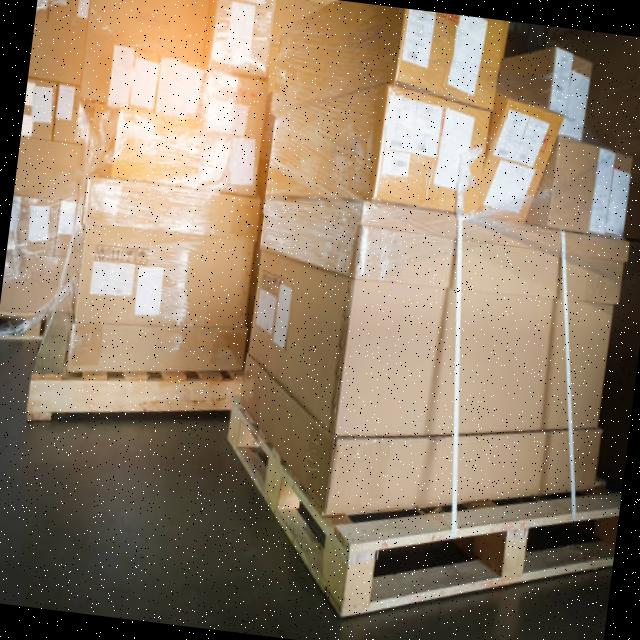Wooden-Pallets: (216, 397, 619, 626), (19, 364, 240, 429)
